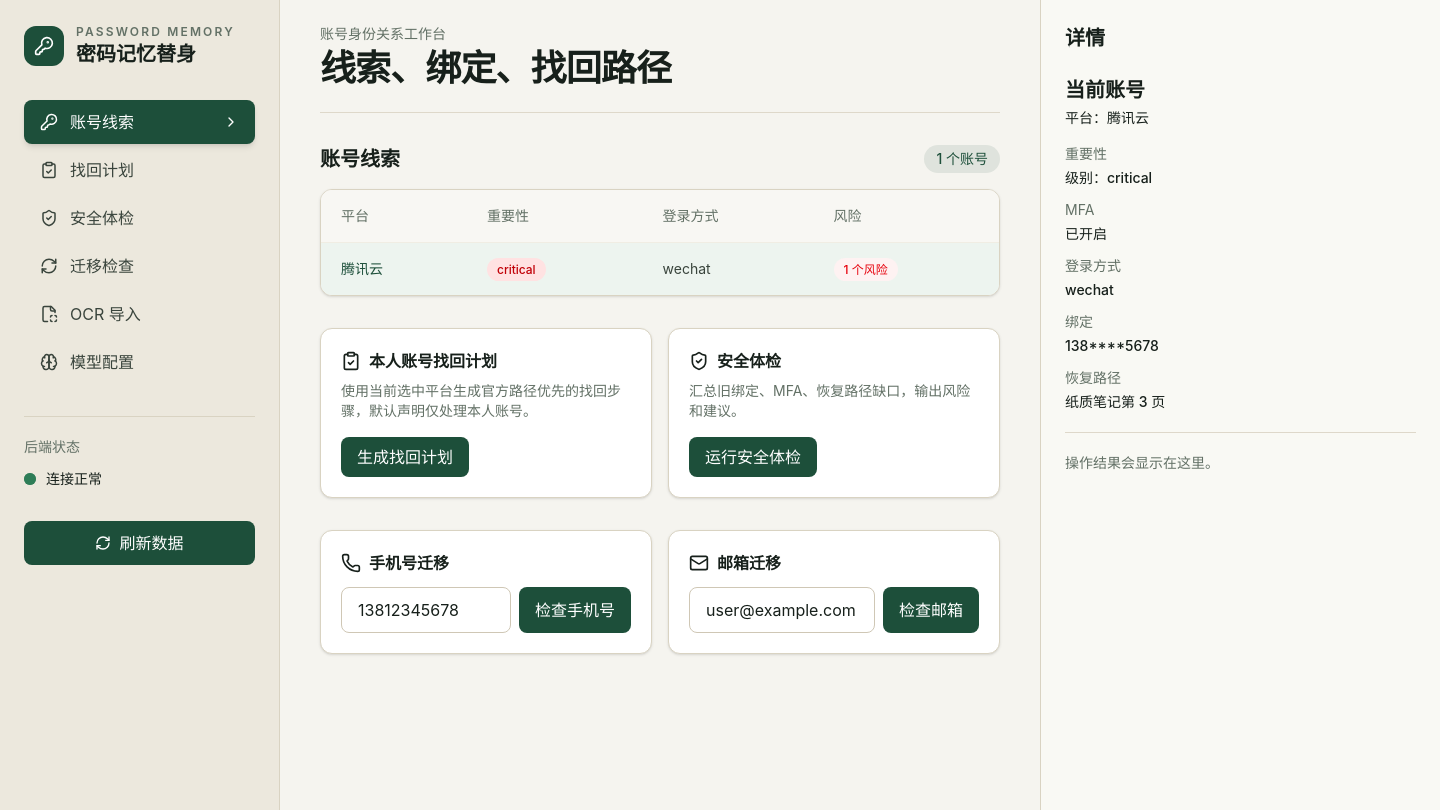
it: App › renders the workspace with real account data and runs recovery and audit actions
The width and height of the screenshot is (1440, 810).
Expected: the text "腾讯云" is shown, [321, 242, 467, 295]
Expected: the text "critical" is shown, [487, 258, 546, 281]
Click the button "生成找回计划".
click(405, 457)  # box [341, 437, 469, 477]
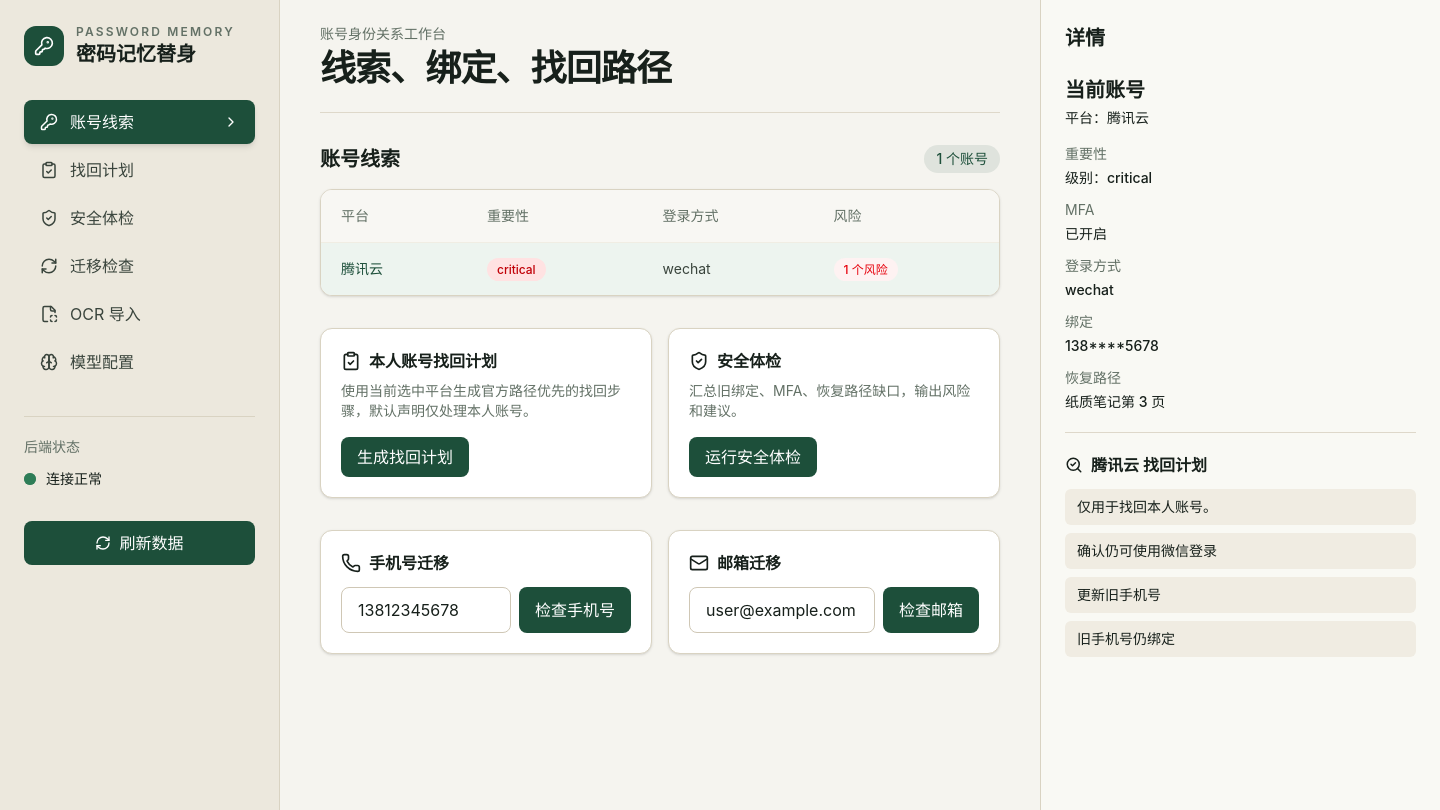
Expected: the list item "确认仍可使用微信登录" is shown, [1065, 533, 1416, 569]
Click the button "运行安全体检".
click(753, 457)  # box [689, 437, 817, 477]
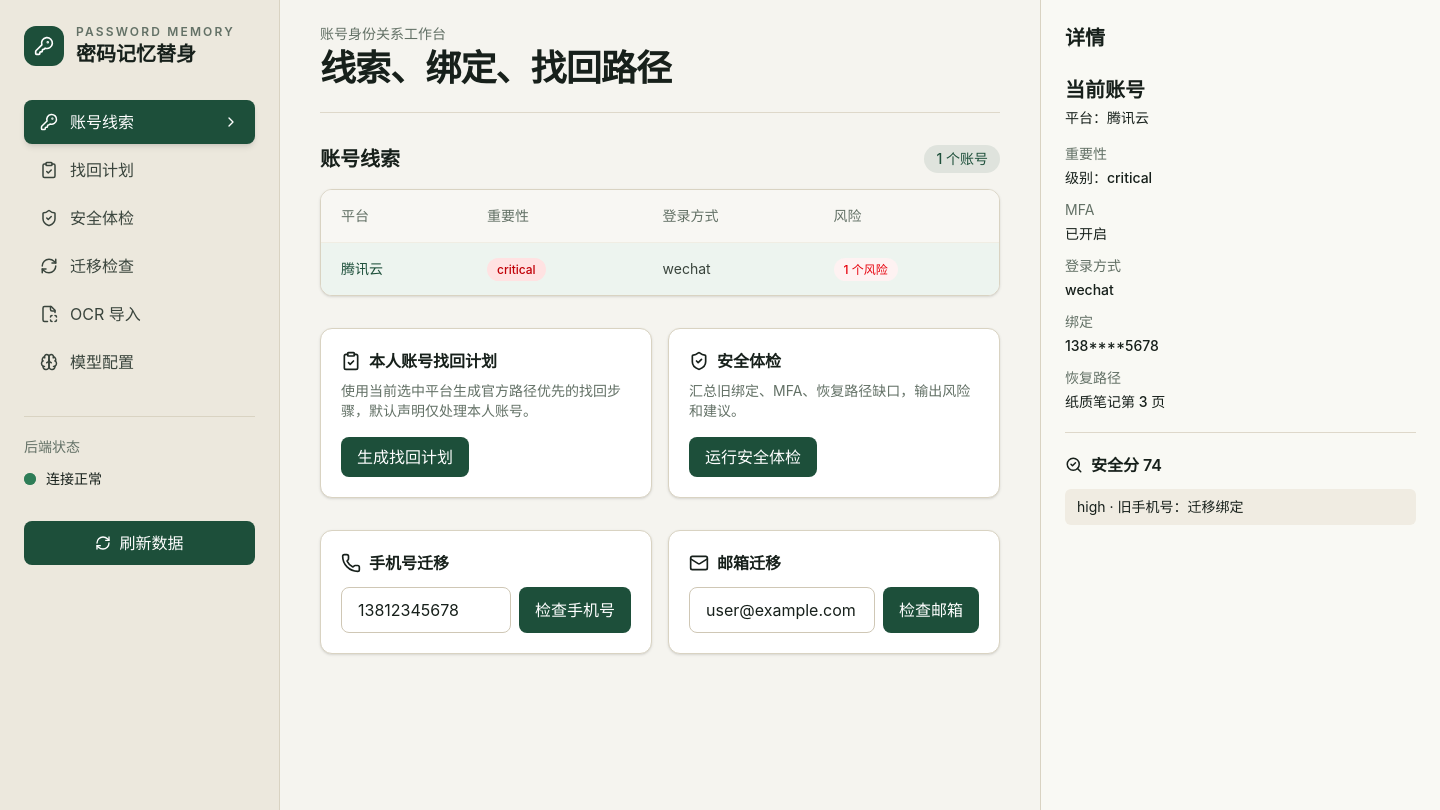
Expected: the heading "安全分 74" is shown, [1065, 455, 1162, 475]
